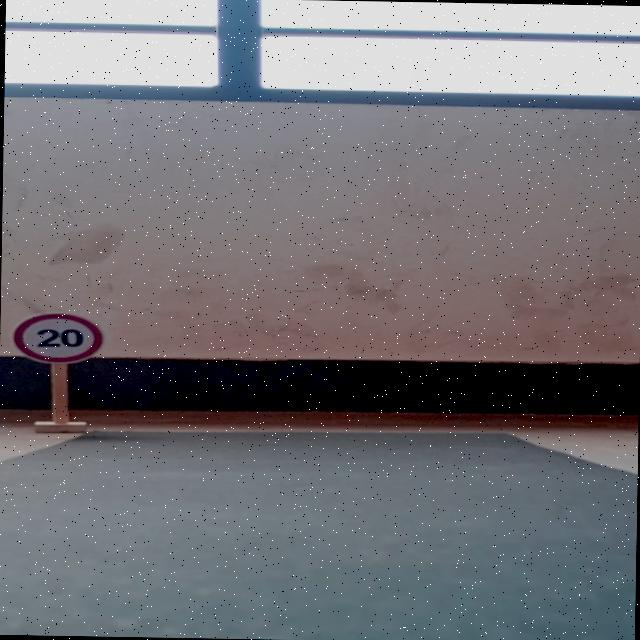Speed20: (3, 308, 108, 366)
